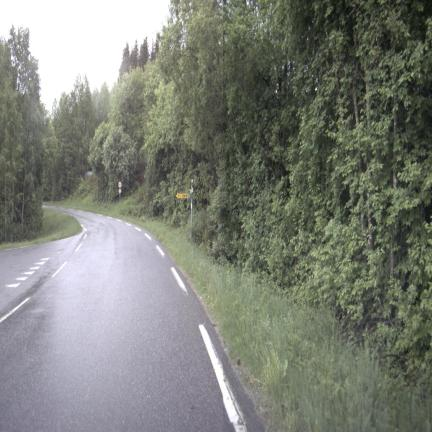Road: (0, 209, 262, 431)
